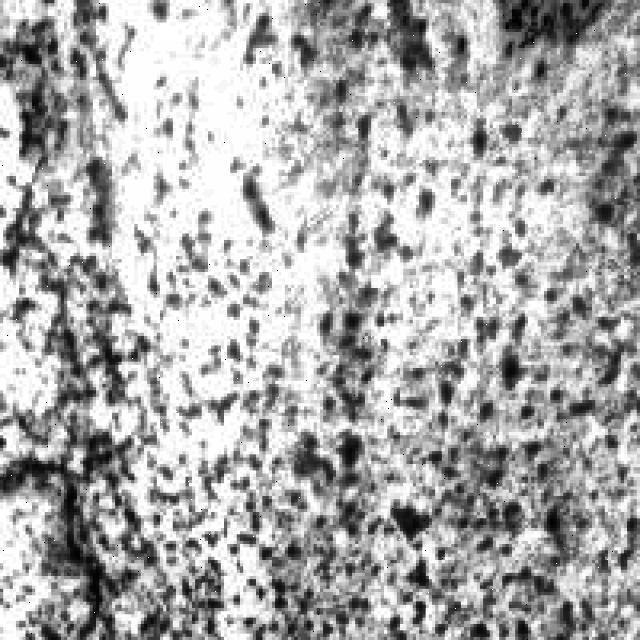Rolled_in_Scale: (154, 0, 630, 621), (3, 70, 179, 630)
